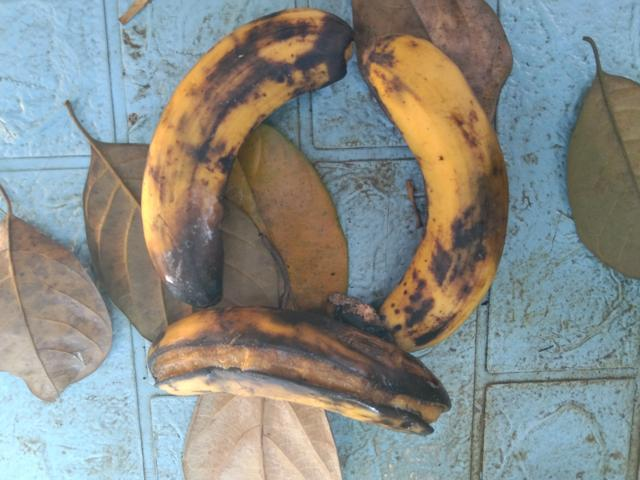overripe: (339, 44, 506, 340)
rotten: (120, 13, 357, 312), (127, 294, 483, 461)
